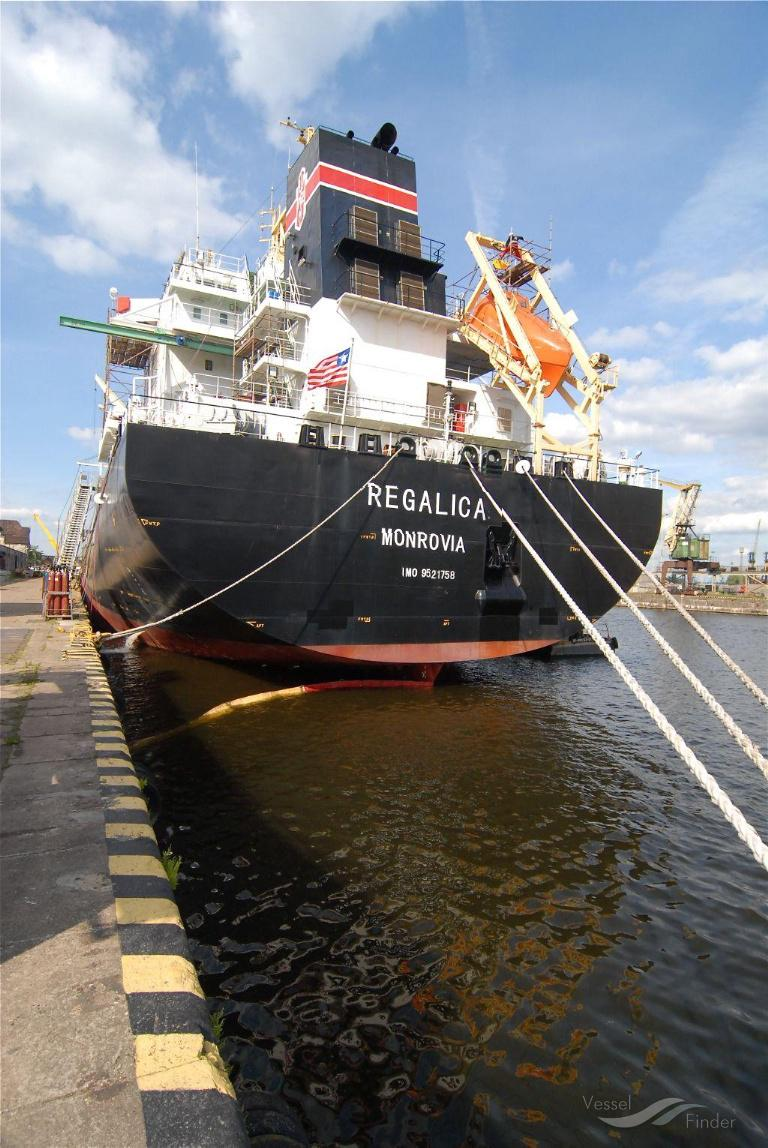OCR: (360, 464, 502, 590)
